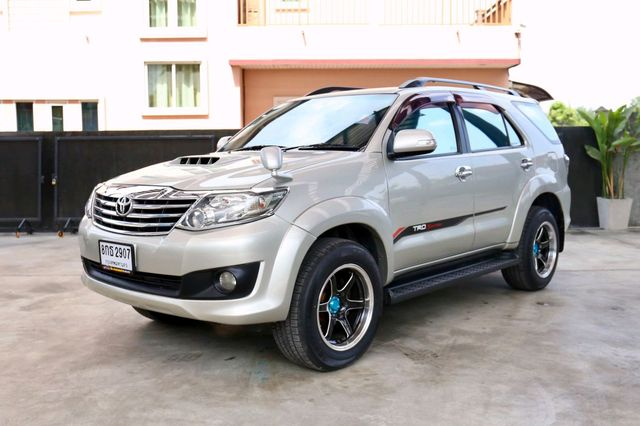pickup: (75, 76, 571, 373)
